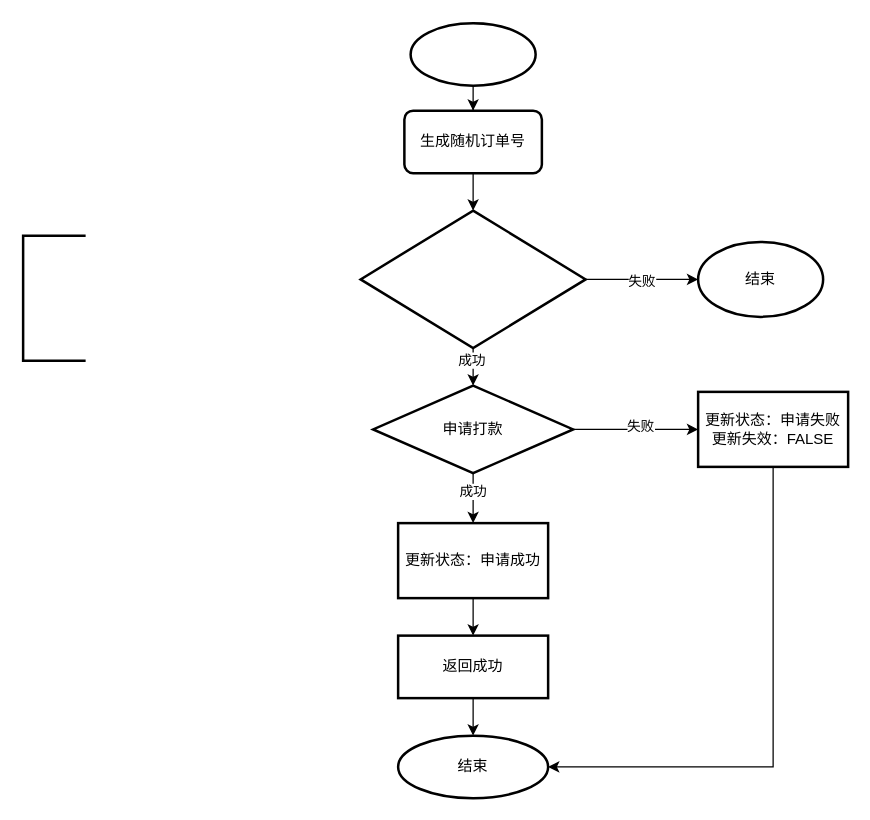
Some shapes in this 870 by 820 pixel diagram are drawn without their labels. Each missing label, with the centre of its shape:
"p ayment _ a waken :是否已唤醒打款节点 confirm _a waken:是否已唤醒认证节点 effective:是否有效" goes at [53,297].
"入库（状态：新建，effective:TRUE p ayment _ a waken:FALSE confirm _a waken:FALSE ）" goes at [472,279].
"开始" goes at [472,53].
